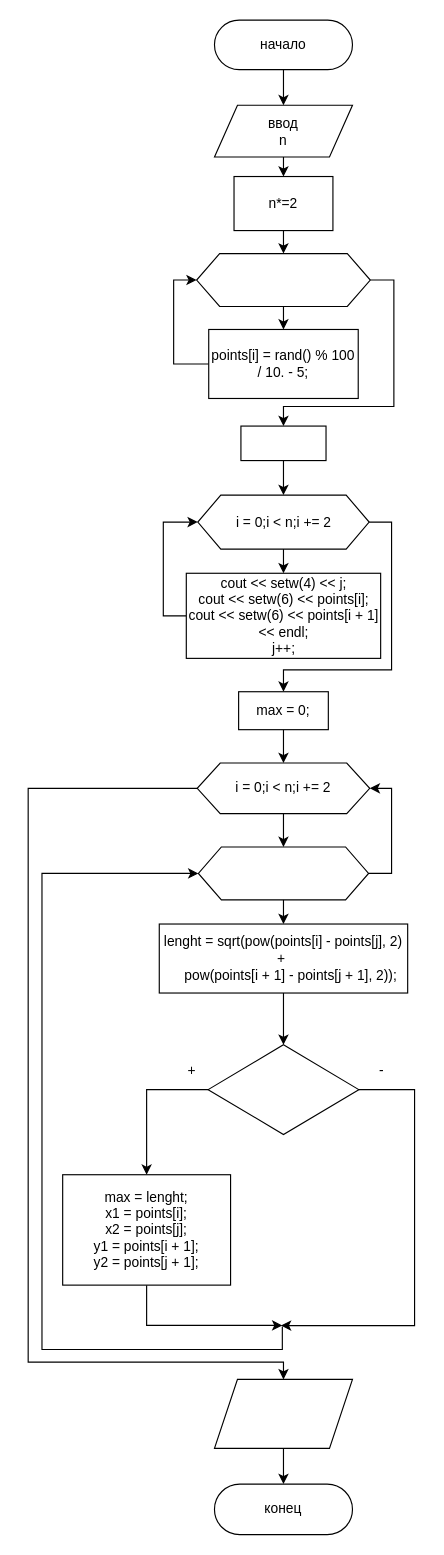
Image size: 444x1555. Some labels were removed from this diagram. The centre of each missing label's shape, as x and y in pixels:
i = 0;i < n;i++: point 282,279
j = 1;: point 283,443
j = 2;j < n;j += 2: point 283,873
max < lenght: point 283,1089
вывод max,x1,y1,x2,y2: point 282,1413
